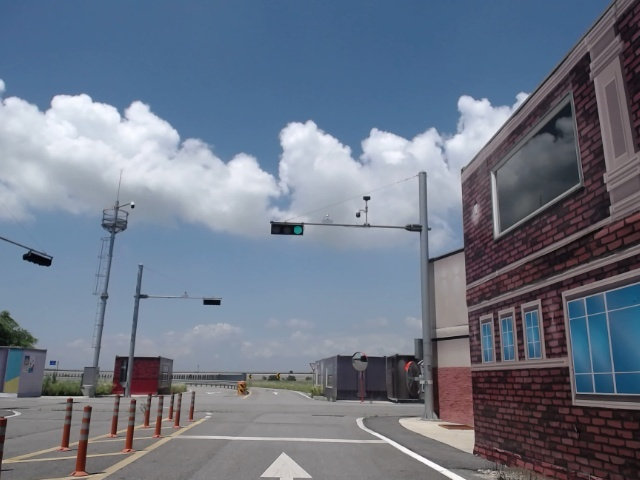green_3: (272, 224, 302, 234)
